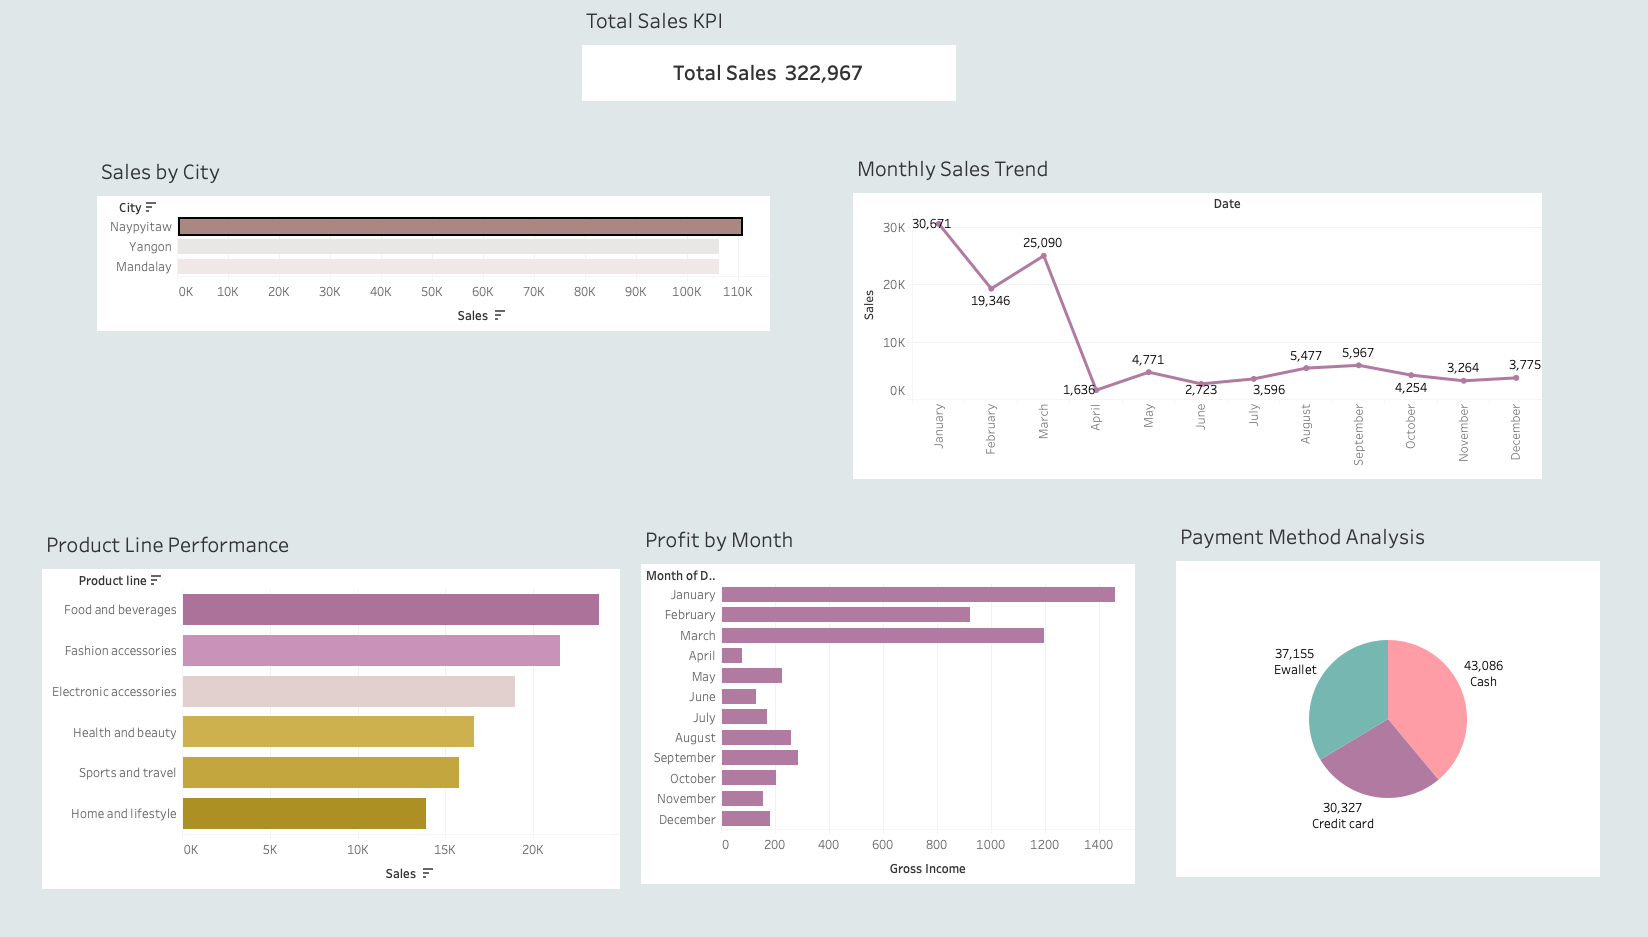

This screenshot's page, from the dashboard's own definition file:
{"tool":"tableau","page":{"name":"Sales Analysis Dashboard","canvas":[1000,1000],"units":"permille","ordinal":0},"visuals":[{"type":"worksheet","title":"Total Sales KPI","mark":"Automatic","box":[198.3,7.1,563,175.1]},{"type":"worksheet","title":"Sales by City","mark":"Automatic","rows":["City"],"cols":["Sales"],"box":[11.3,194.3,408,333]},{"type":"worksheet","title":"Monthly Sales Trend","mark":"Automatic","rows":["Sales"],"cols":["Date"],"box":[544.5,197.4,348.6,333]},{"type":"legend","title":"Monthly Sales Trend","param":"[federated.1fs3llc0el8k4o195nmdt130t3ab].[yr:Date:ok]","box":[903.8,217.6,83.1,38.5]},{"type":"legend","title":"Sales by City","param":"[federated.1fs3llc0el8k4o195nmdt130t3ab].[none:City:nk]","box":[305.8,384.6,83.1,79]},{"type":"worksheet","title":"Product Line Performance","mark":"Bar","rows":["Sales"],"cols":["Product line"],"box":[13.1,546.6,383,370.4]},{"type":"legend","title":"Product Line Performance","param":"[federated.1fs3llc0el8k4o195nmdt130t3ab].[none:Product line:nk]","box":[396.1,546.6,89.7,139.7]},{"type":"worksheet","title":"Payment Method Analysis","mark":"Pie","box":[536.8,558.7,333.1,333]},{"type":"legend","title":"Payment Method Analysis","param":"[federated.1fs3llc0el8k4o195nmdt130t3ab].[none:Payment:nk]","box":[897.9,596.1,83.1,79]}]}

Visuals, with their boxes on the dashboard's canvas, which has no fixed pixel size, in thousandths of its width and height (x1, y1, x2, y2). These are canvas units, not pixel positions in the 1648x937 screenshot, which may show the page scaled, cropped or inside an application window:
"Total Sales KPI" worksheet: left=198, top=7, right=761, bottom=182
"Sales by City" worksheet: left=11, top=194, right=419, bottom=527
"Monthly Sales Trend" worksheet: left=544, top=197, right=893, bottom=530
"Monthly Sales Trend" legend: left=904, top=218, right=987, bottom=256
"Sales by City" legend: left=306, top=385, right=389, bottom=464
"Product Line Performance" worksheet (Bar marks): left=13, top=547, right=396, bottom=917
"Product Line Performance" legend: left=396, top=547, right=486, bottom=686
"Payment Method Analysis" worksheet (Pie marks): left=537, top=559, right=870, bottom=892
"Payment Method Analysis" legend: left=898, top=596, right=981, bottom=675
